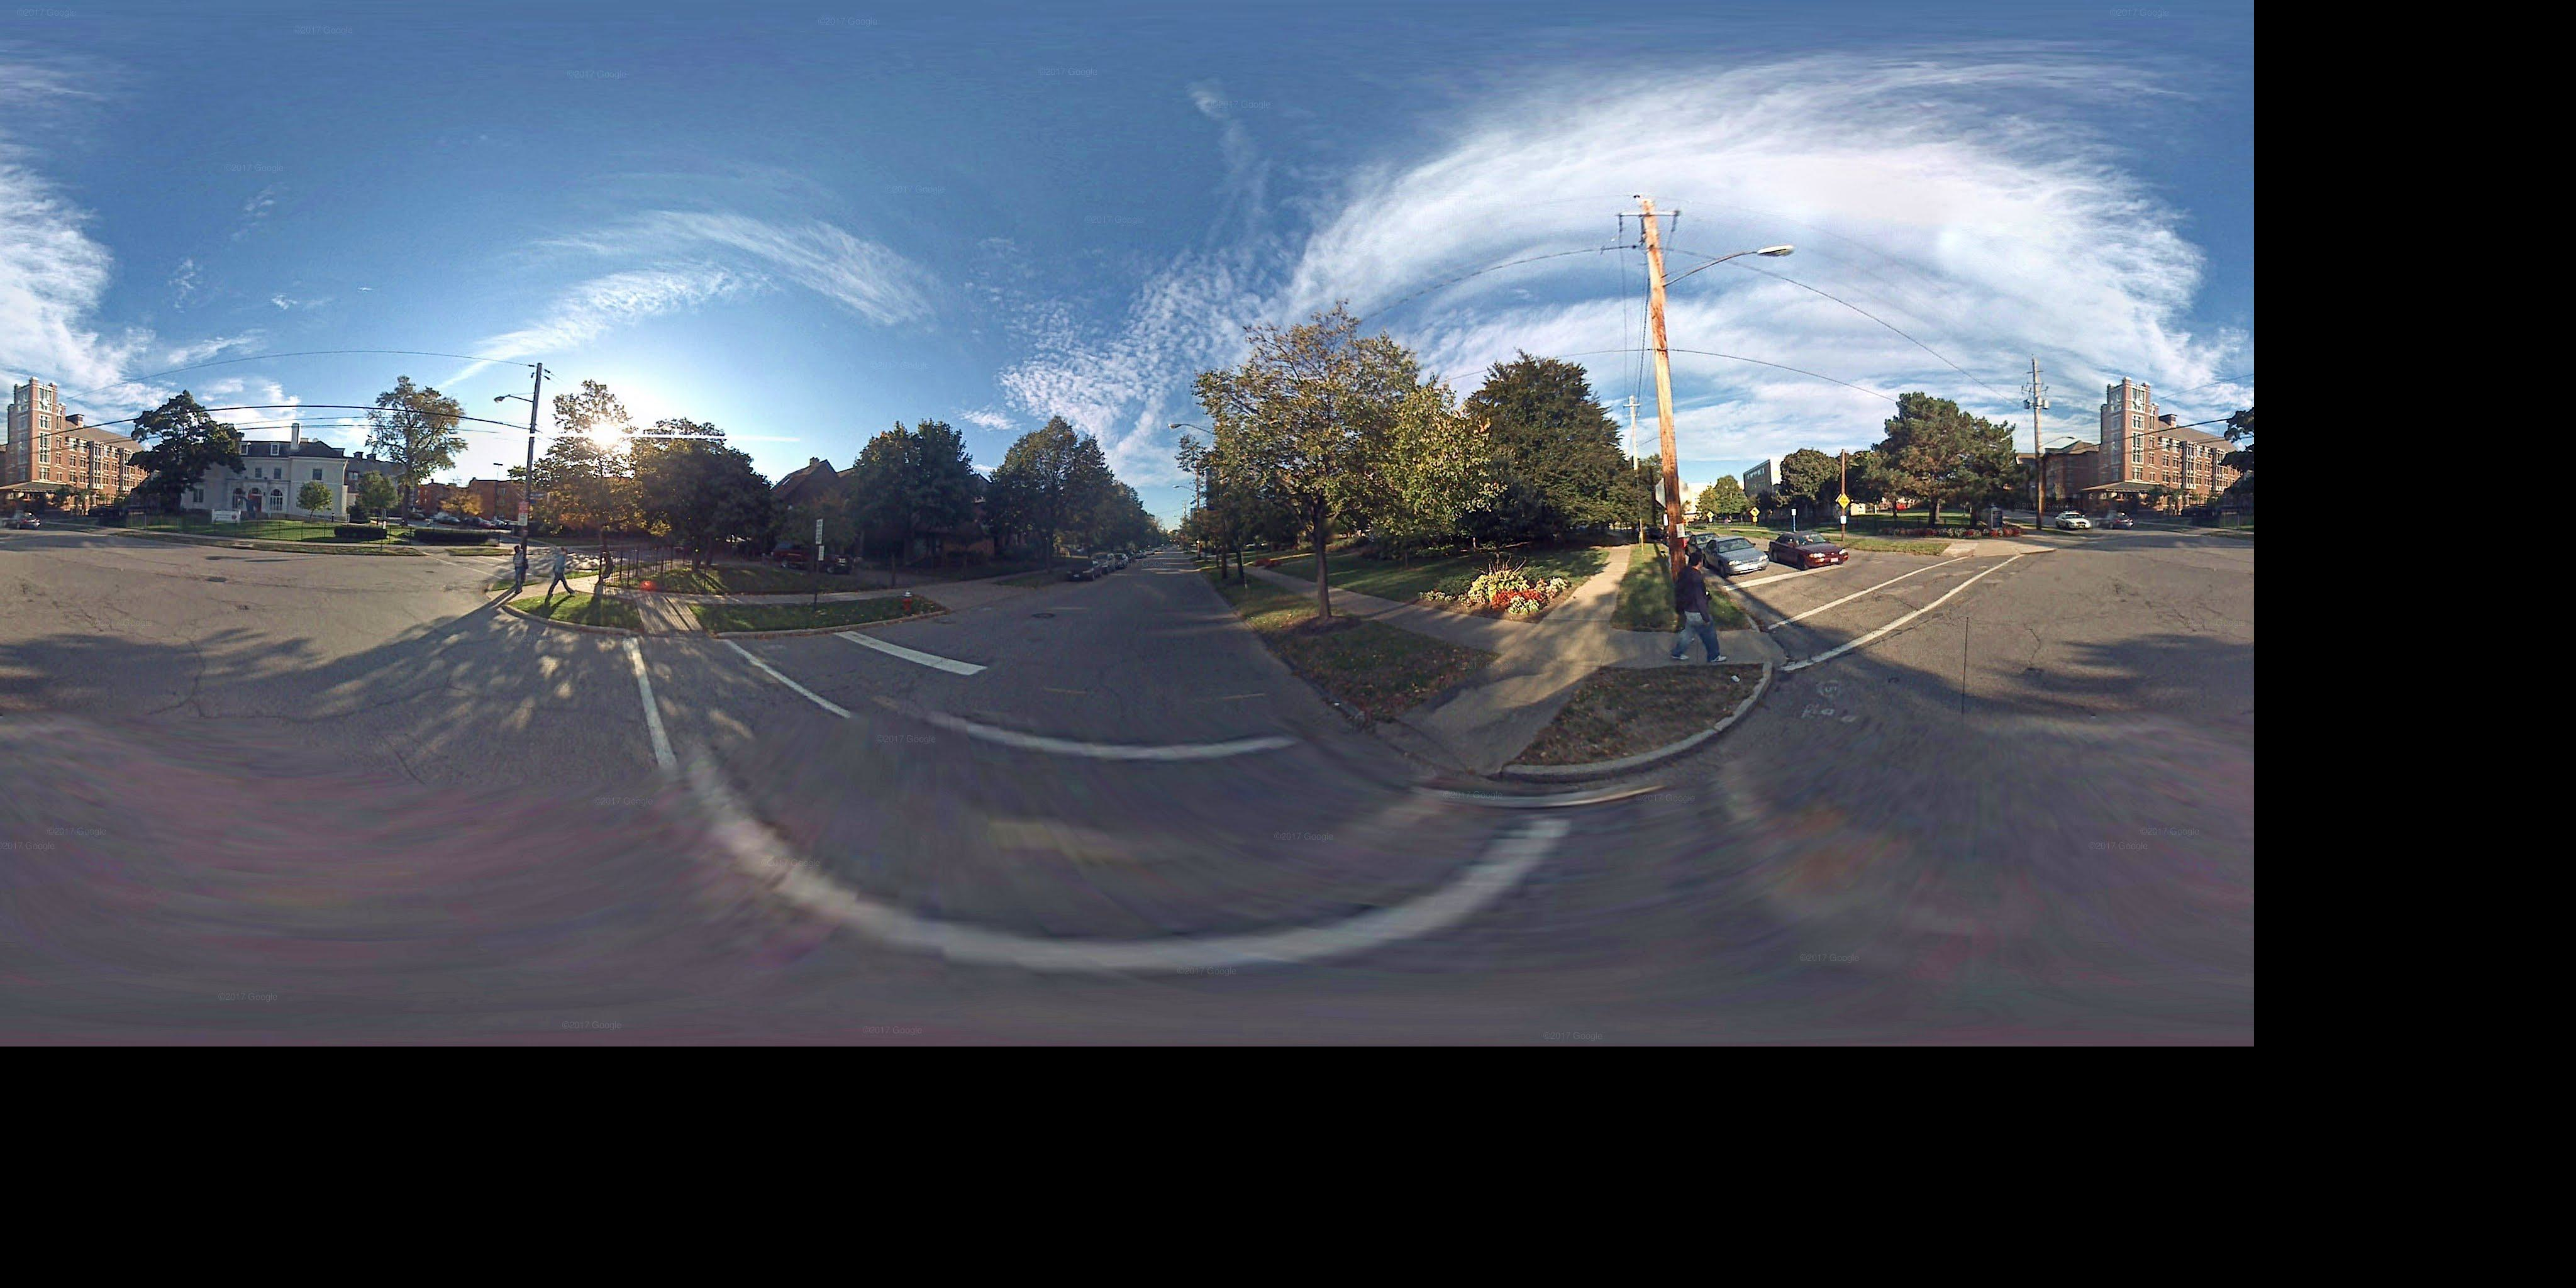Curb Ramp: (1368, 678, 1536, 787), (1720, 619, 1802, 678), (631, 606, 713, 647), (1960, 547, 2031, 567), (483, 583, 519, 611), (412, 547, 463, 562), (2177, 524, 2218, 534)
